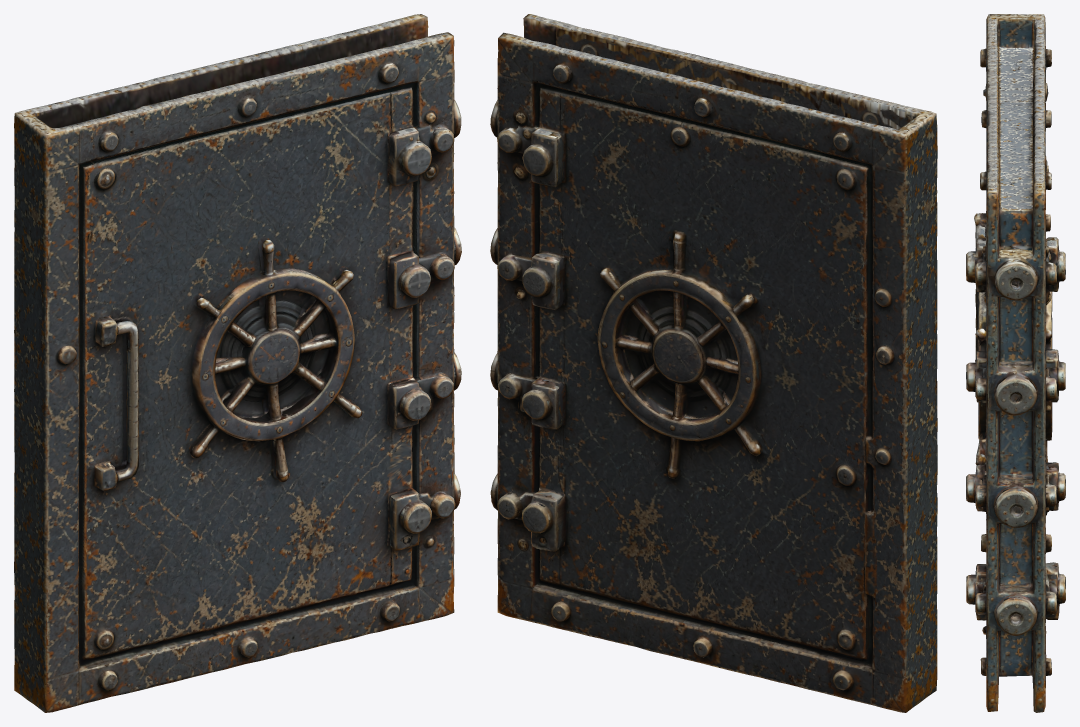
Rendered from BKI_VaultLeaf.fbx.
3 views of the same model, side by side, from view 1: azimuth 30°, elevation 25°; view 2: azimuth 150°, elevation 25°; view 3: azimuth 270°, elevation 25° (orthographic). The views are drawn at different scales.
Visible parts, largest first — view 1: texture_mapping; view 2: texture_mapping; view 3: texture_mapping.
Boxes of the visible parts, left/top/right/bottom form: texture_mapping: left=14, top=14, right=461, bottom=712; texture_mapping: left=490, top=14, right=937, bottom=712; texture_mapping: left=966, top=14, right=1065, bottom=712.
Size of the model in its own units: 0.7635 by 0.1736 by 1.
Materials: 1 (1 with a texture image).
